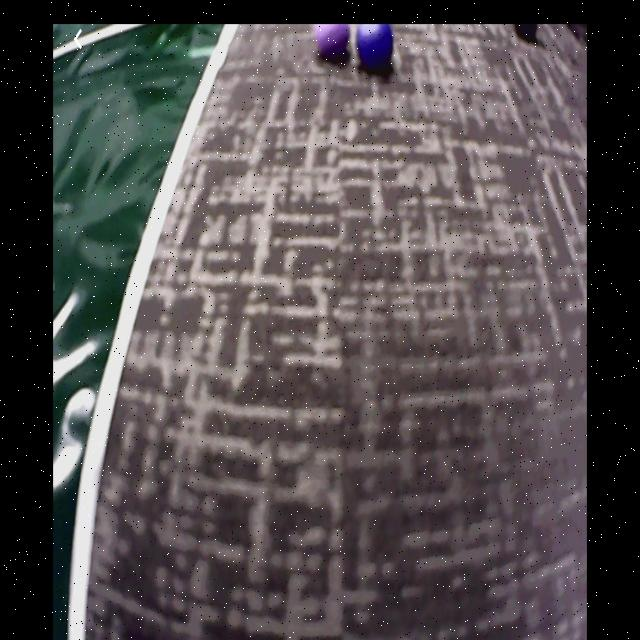ball: (358, 26, 396, 75), (314, 25, 352, 63)
